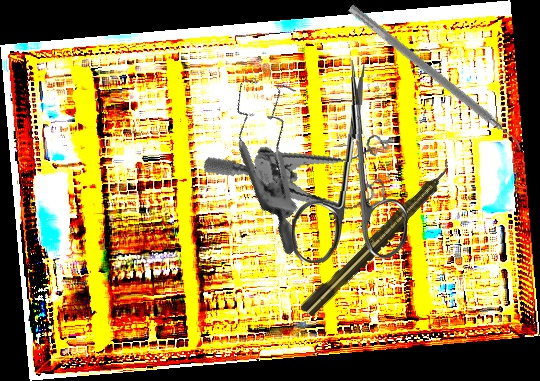Handpiece: (297, 158, 460, 321)
Iris Scissors: (290, 58, 414, 267)
Spatula Surgical: (341, 3, 529, 156)
Speculum: (180, 58, 376, 257), (200, 118, 408, 240)
